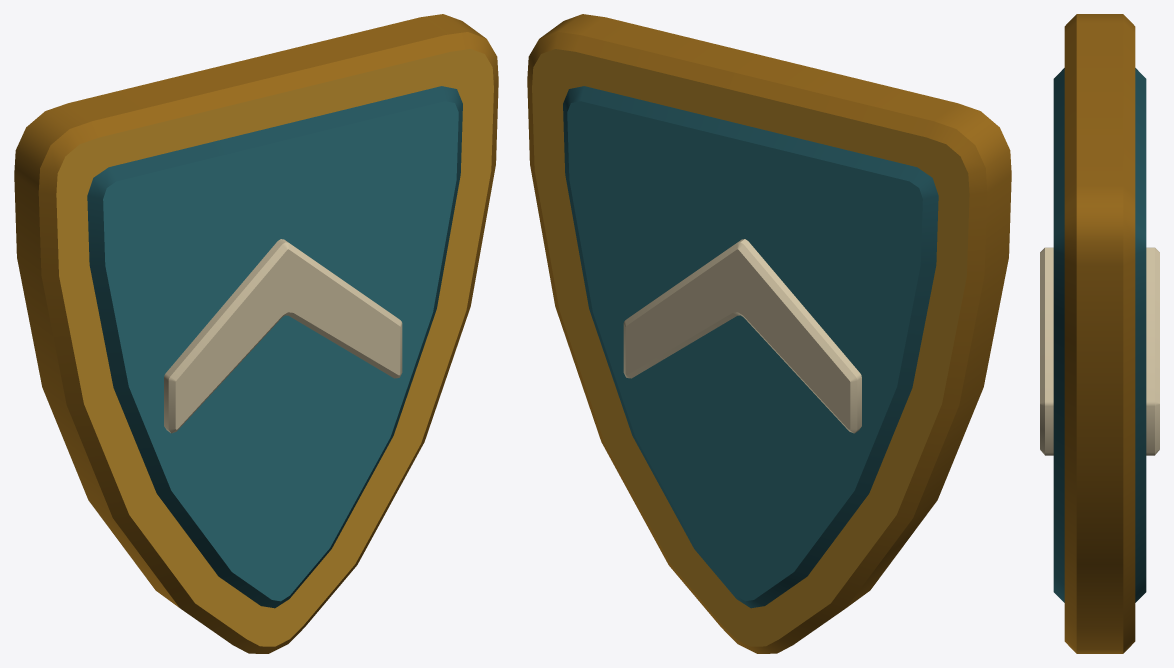
The model's file is Badge_01.glb.
The picture shows the model from 3 angles, left to right: view 1: azimuth 30°, elevation 25°; view 2: azimuth 150°, elevation 25°; view 3: azimuth 270°, elevation 25°; orthographic projection. The views are drawn at different scales.
Visible parts, largest first — view 1: Badge_01; view 2: Badge_01; view 3: Badge_01.
Part boxes in pixels (x1=…): Badge_01: x1=14, y1=14, x2=498, y2=653; Badge_01: x1=527, y1=14, x2=1011, y2=653; Badge_01: x1=1040, y1=14, x2=1159, y2=653.
Size of the model in its own units: 1.85 by 2.21 by 0.44.
